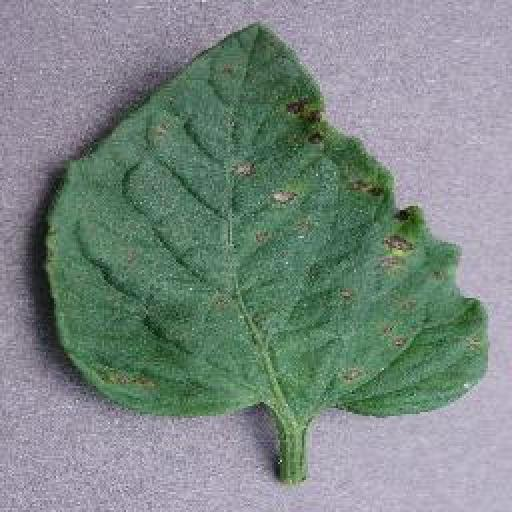Septoria: (44, 24, 491, 423)
